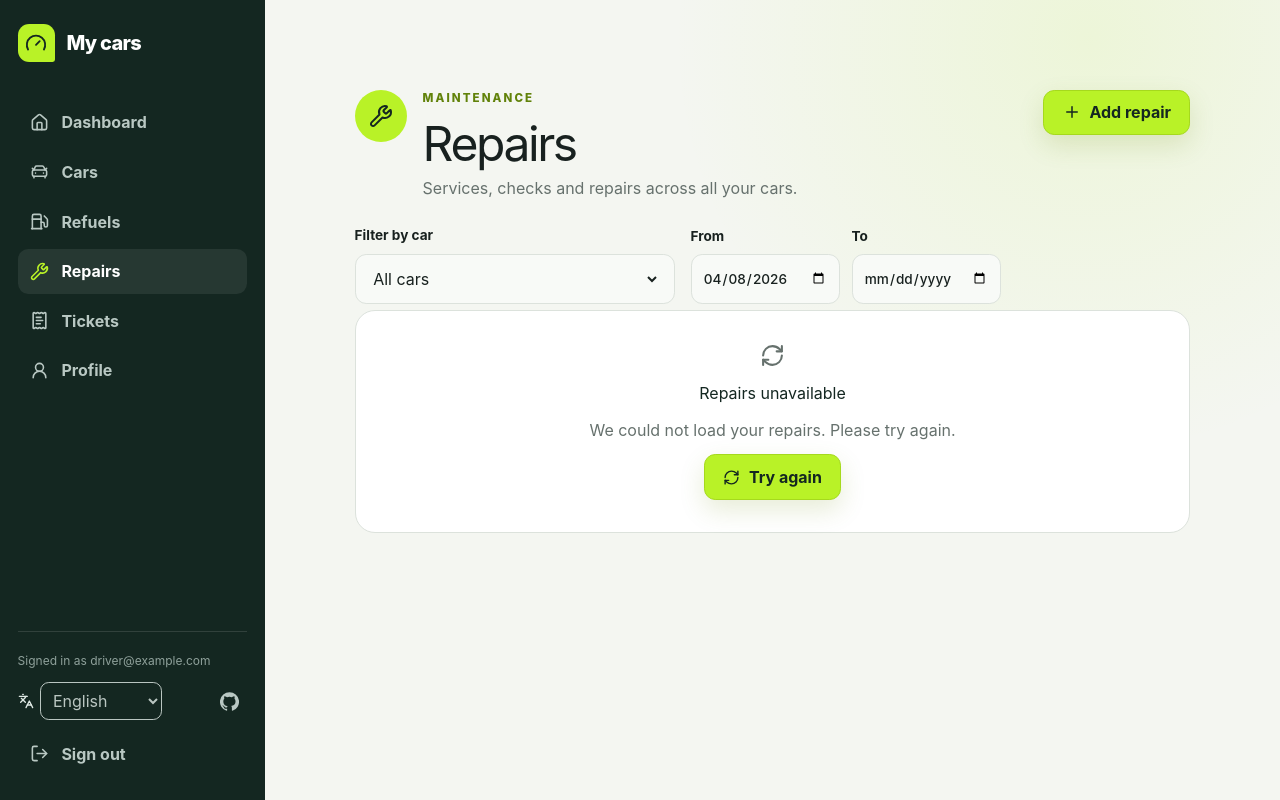
Test: repairs list › shows a retryable error when the repairs cannot be loaded
The image size is (1280, 800).
Check: the message shows "Repairs unavailable", box [699,383,846,403]
Click the button "Try again".
click(772, 477)  # box [704,454,841,500]
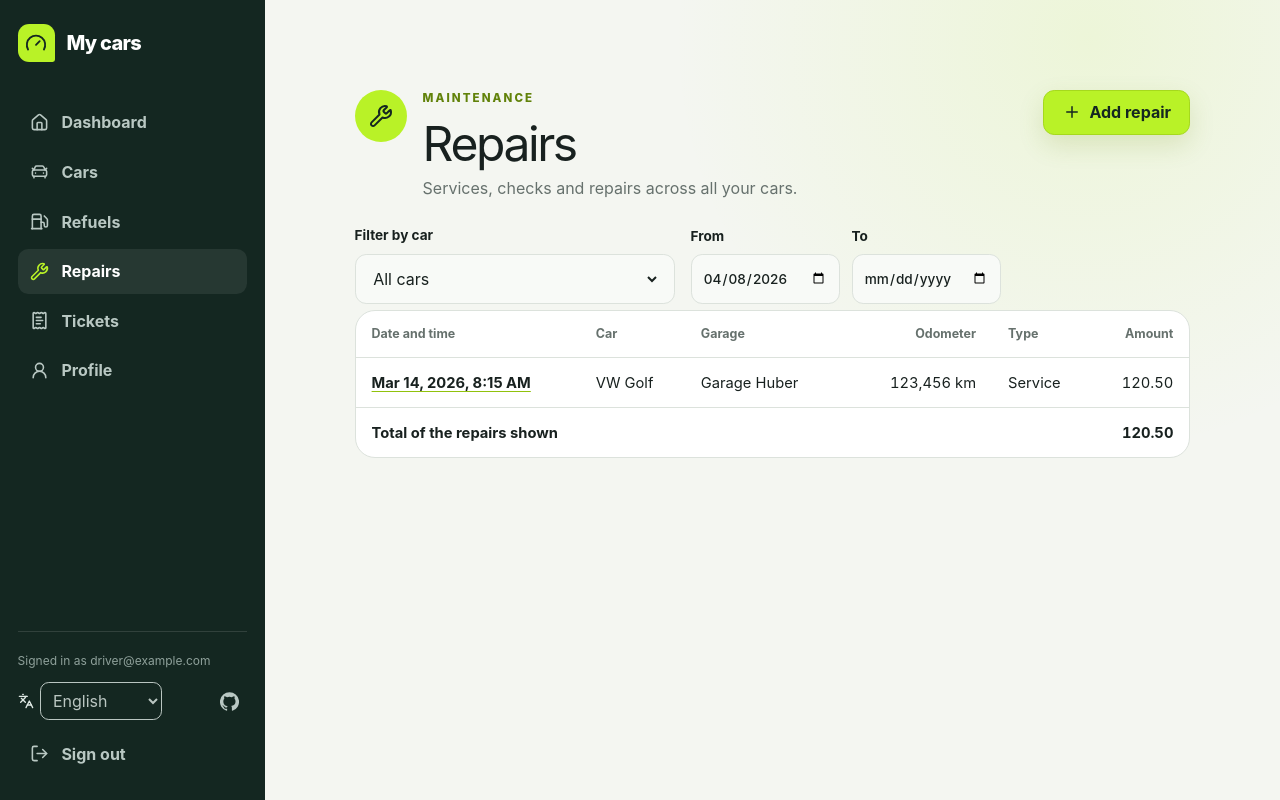
Check: the text "Garage Huber" is shown, box [685,358,854,408]
